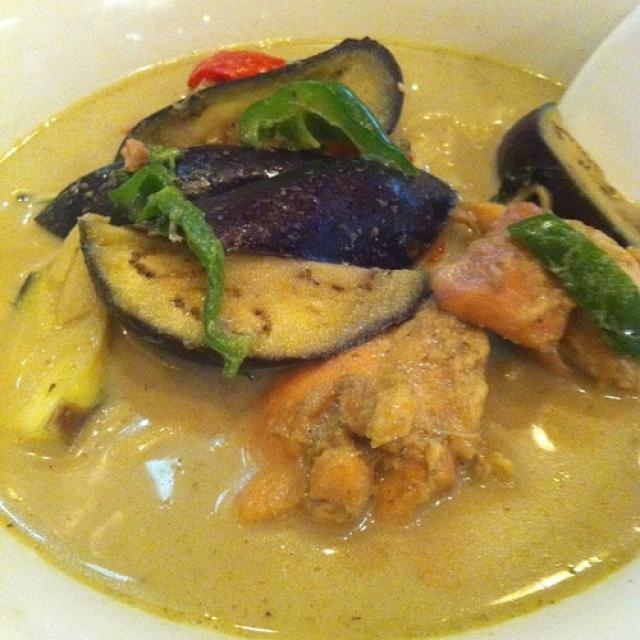三明治: (70, 99, 576, 554)
